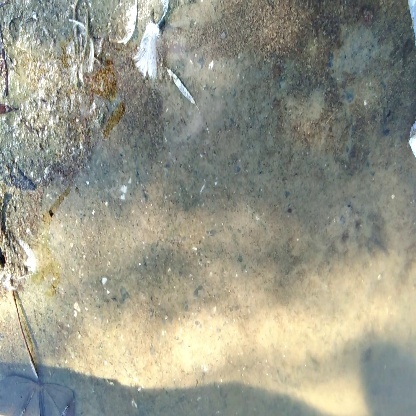branch: (5, 272, 81, 416)
